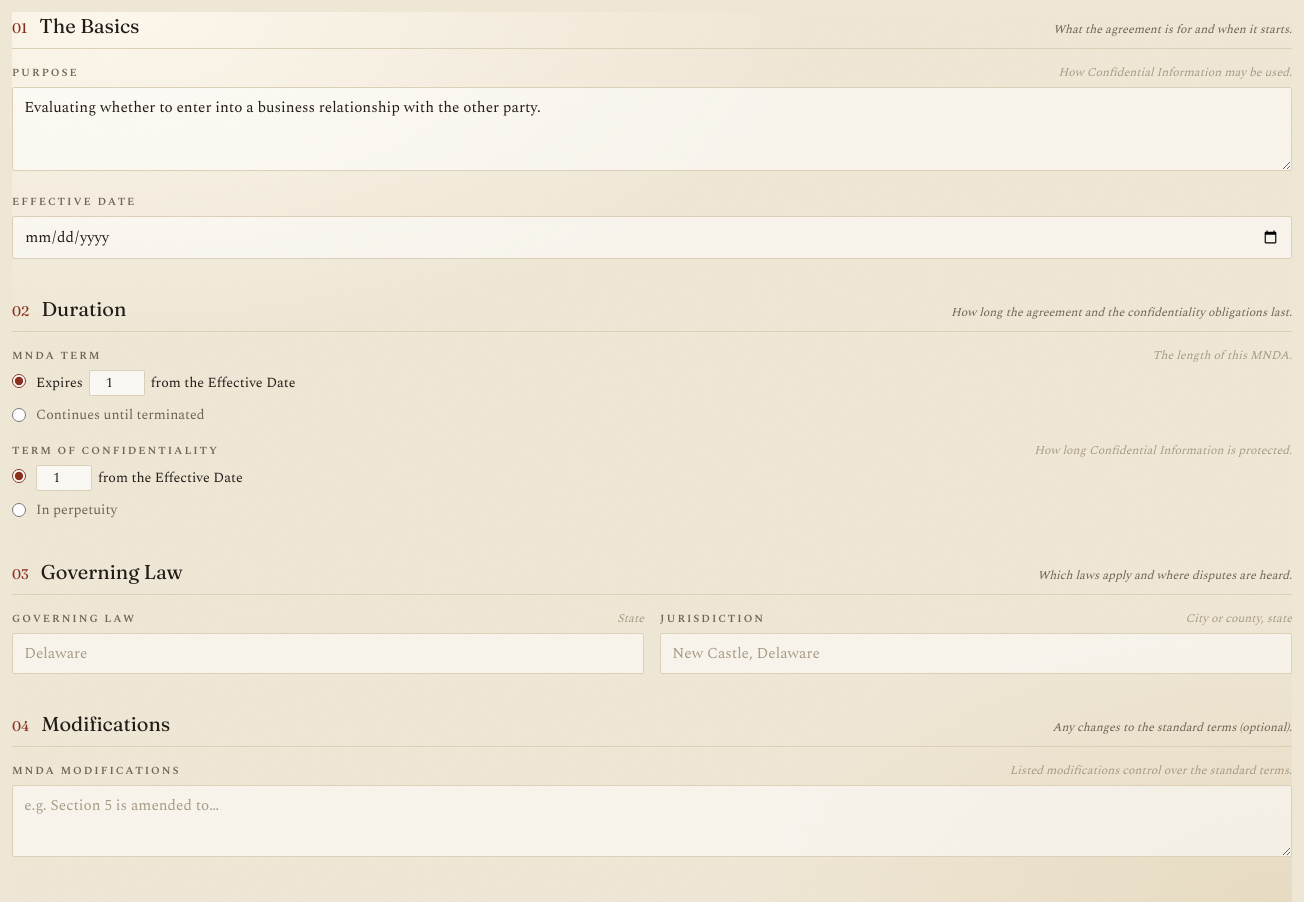
it: NdaForm › allows the field to be emptied while editing, then coerces to 1 on blur
Clear the number field named "Number of years" next to "Expires" at {"x": 117, "y": 383}, box [89, 370, 145, 396]
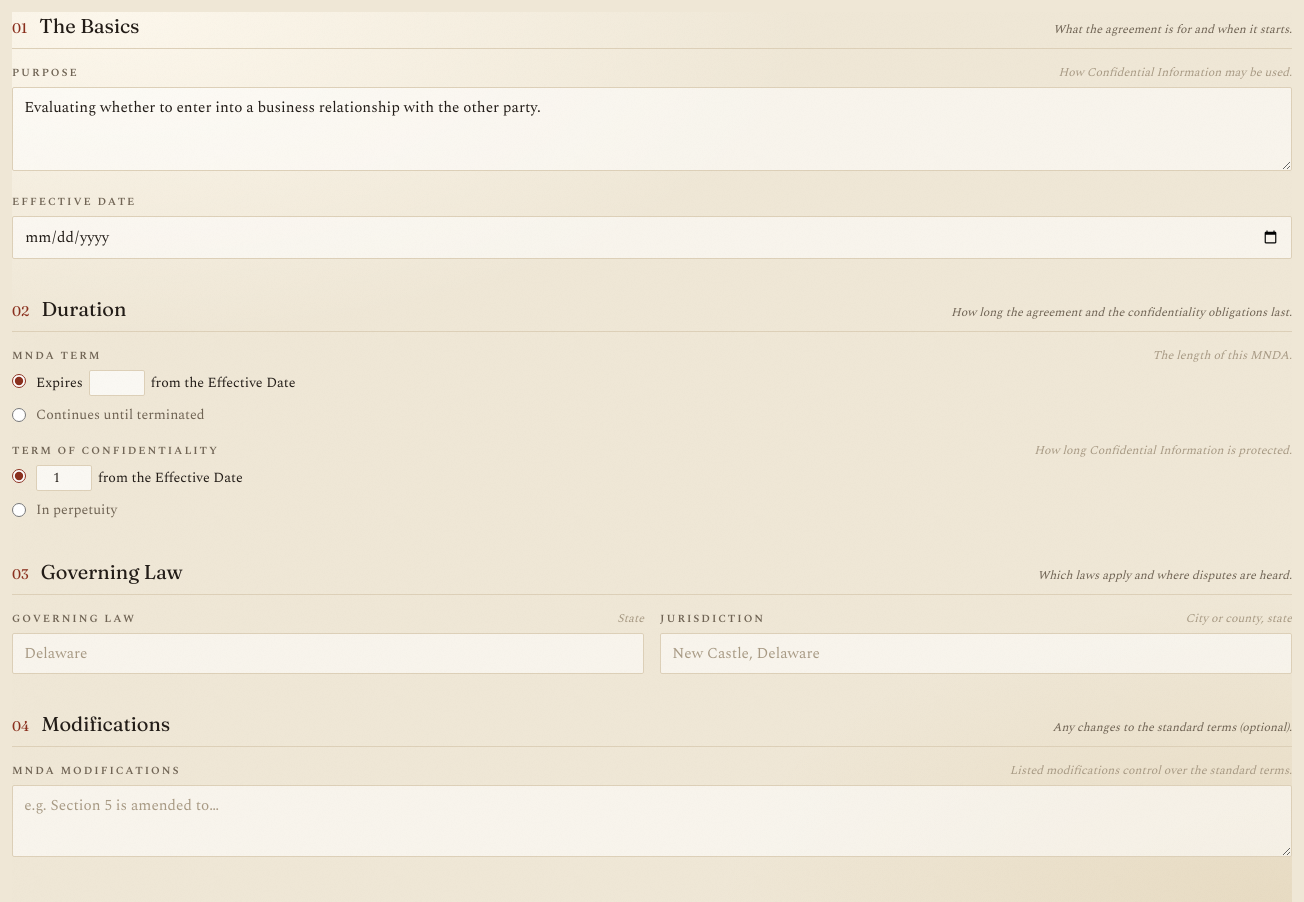
Leave the number field named "Number of years" next to "Expires", box [89, 370, 145, 396]
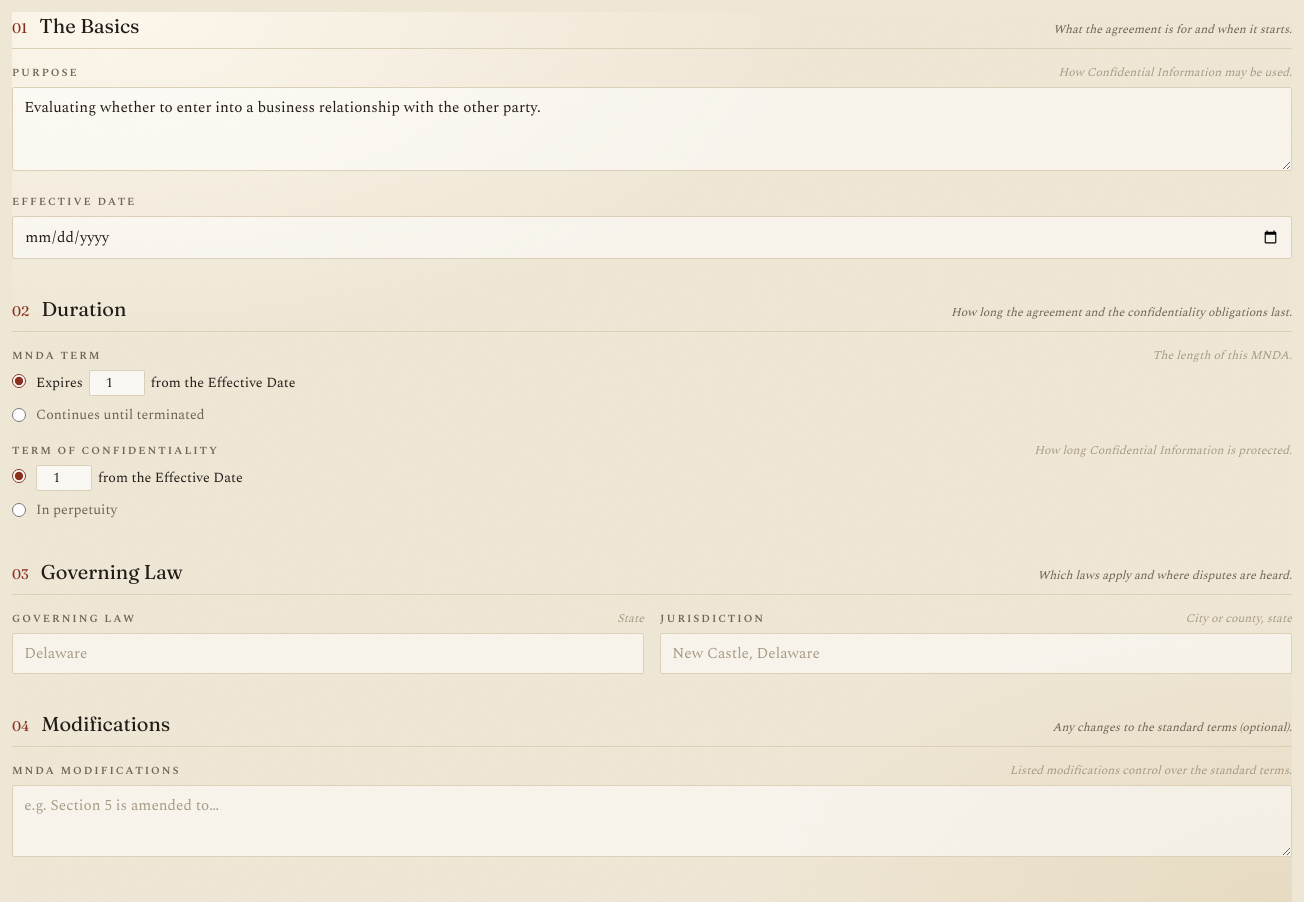
Now the number field named "Number of years" next to "Expires" holds "1", box [89, 370, 145, 396]
